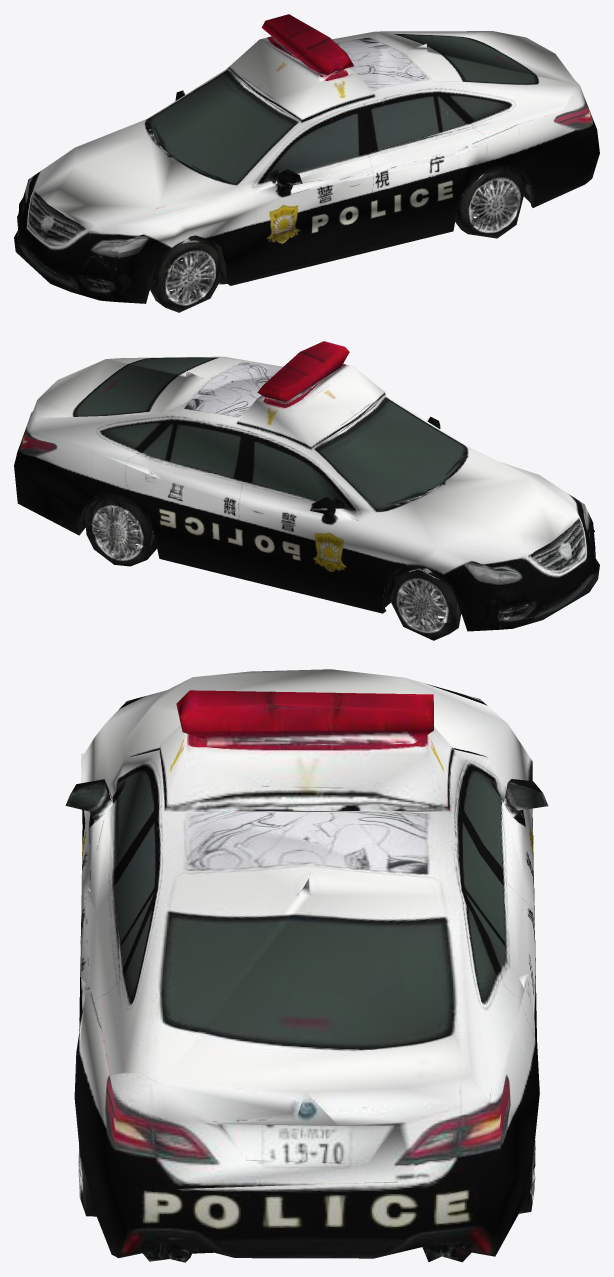
Rendered from car_01.glb.
3 renders of one model, top to bottom at view 1: azimuth 30°, elevation 25°; view 2: azimuth 150°, elevation 25°; view 3: azimuth 270°, elevation 25°, orthographic. The views are drawn at different scales.
Parts seen in each view (by area): view 1: Mesh1.0; view 2: Mesh1.0; view 3: Mesh1.0.
Part boxes in pixels (x1,y1,x2,y2): Mesh1.0: [14, 14, 599, 312]; Mesh1.0: [14, 341, 599, 640]; Mesh1.0: [65, 669, 548, 1262].
Bounding box in the file's own units: 4.61 × 1.64 × 1.83.
Materials: 1 (1 with a texture image).
